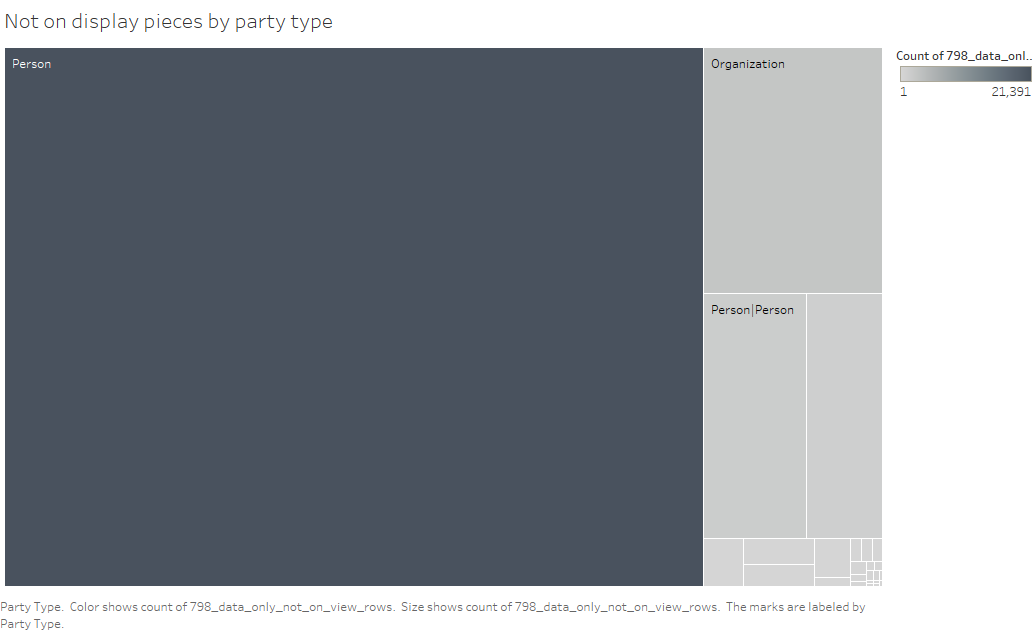

Layout of this report page (visuals, bound fields, positions):
{"tool":"tableau","page":{"name":"Dashboard 1","canvas":[1000,800],"ordinal":0},"visuals":[{"type":"worksheet","title":"Sheet 2","mark":"Automatic","rows":["798!data!only!not!on!view!rows_52761707DF0A46CA932B8A59ADC1F"],"cols":["date_acquired"],"box":[8,8,984,784]}]}

Visuals, with their boxes on the page's 1000x800 design canvas (x1, y1, x2, y2). These are canvas units, not pixel positions in the 1036x632 screenshot, which may show the page scaled, cropped or inside an application window:
"Sheet 2" worksheet: <region>8, 8, 992, 792</region>
